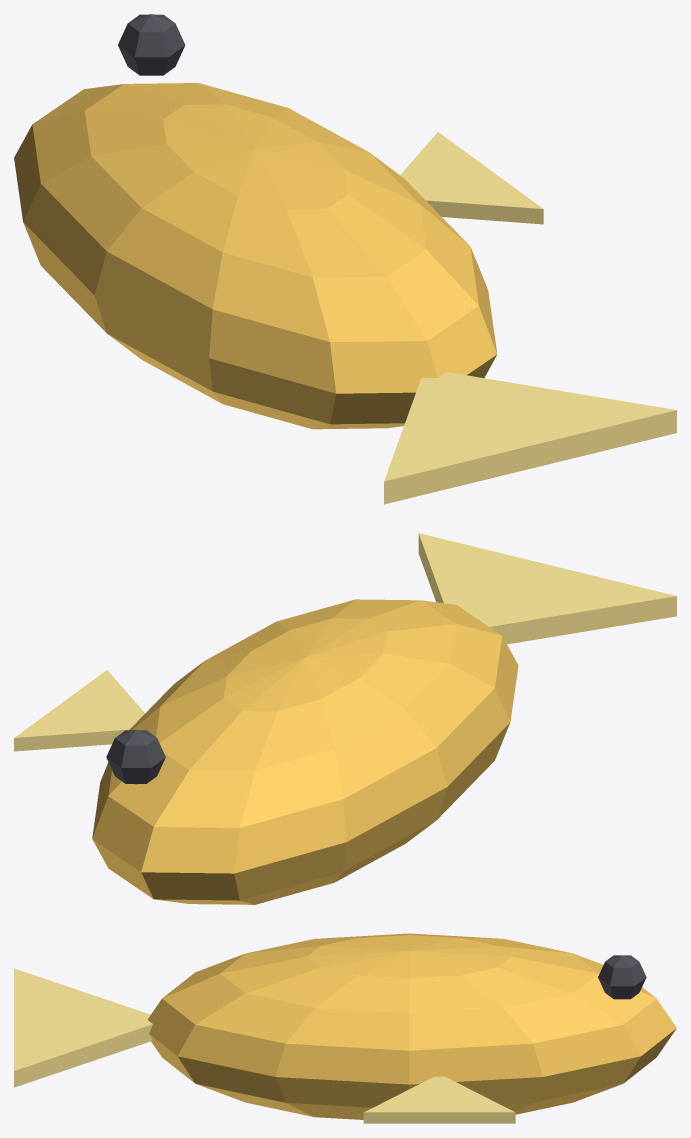
The model's file is goldfish_held.gltf.
The picture shows the model from 3 angles, top to bottom: view 1: azimuth 30°, elevation 25°; view 2: azimuth 150°, elevation 25°; view 3: azimuth 270°, elevation 25°; orthographic projection. The views are drawn at different scales.
Parts seen in each view (by area): view 1: pets_fish_held; view 2: pets_fish_held; view 3: pets_fish_held.
Boxes of the visible parts, x1,y1,x2,y2 form: pets_fish_held: (14,14,676,504); pets_fish_held: (14,533,676,904); pets_fish_held: (14,933,676,1123).
Bounding box in the file's own units: 0.114 × 0.06 × 0.218.
